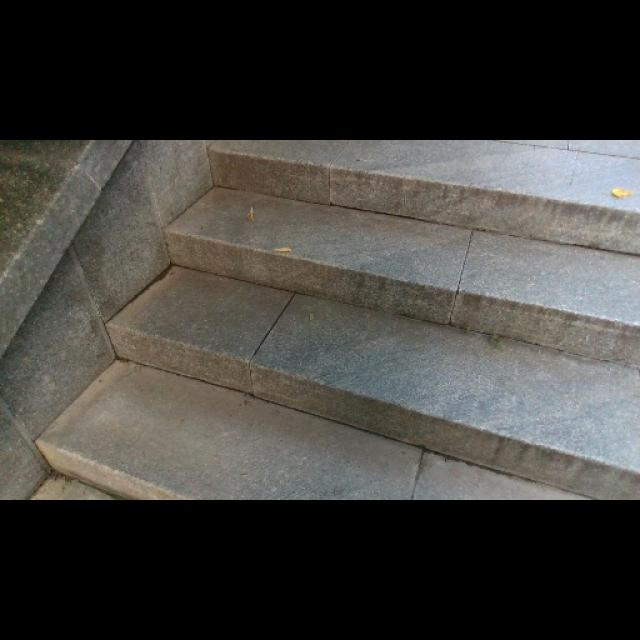Stairs: (3, 139, 638, 500)
